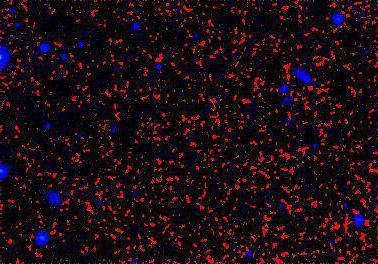star: (273, 189, 303, 219)
